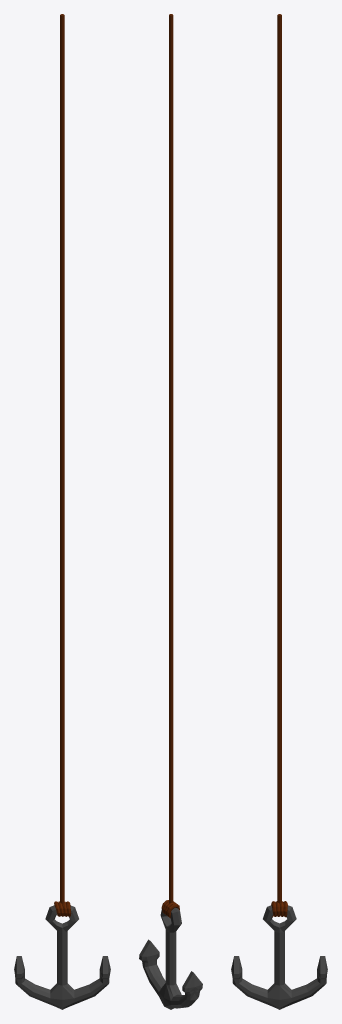
File: Anchor.fbx
3 views of the same model, side by side, from view 1: azimuth 90°, elevation 25°; view 2: azimuth 210°, elevation 25°; view 3: azimuth 270°, elevation 25° (orthographic).
Parts seen in each view (by area): view 1: pTorus6; view 2: pTorus6; view 3: pTorus6.
Part boxes in pixels (x1,y1,x2,y2): pTorus6: (14, 14, 110, 1009); pTorus6: (139, 14, 202, 1009); pTorus6: (231, 14, 327, 1009).
Bounding box in the file's own units: 2.6 × 135 × 11.92.
